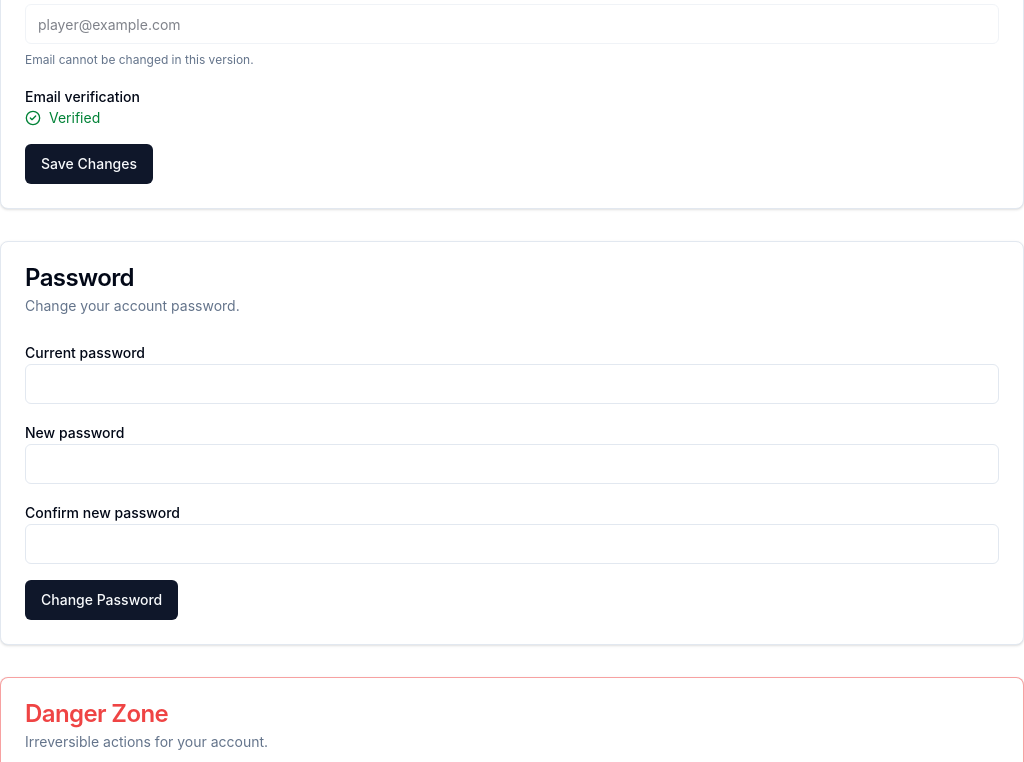
Test case: ProfilePage › shows English validation error when new password is shorter than 8 characters
(page scrolled)
Type "OldPassword1" into the password field with id "current-password".
click(512, 384); type("OldPassword1")  # box [25,364,999,404]
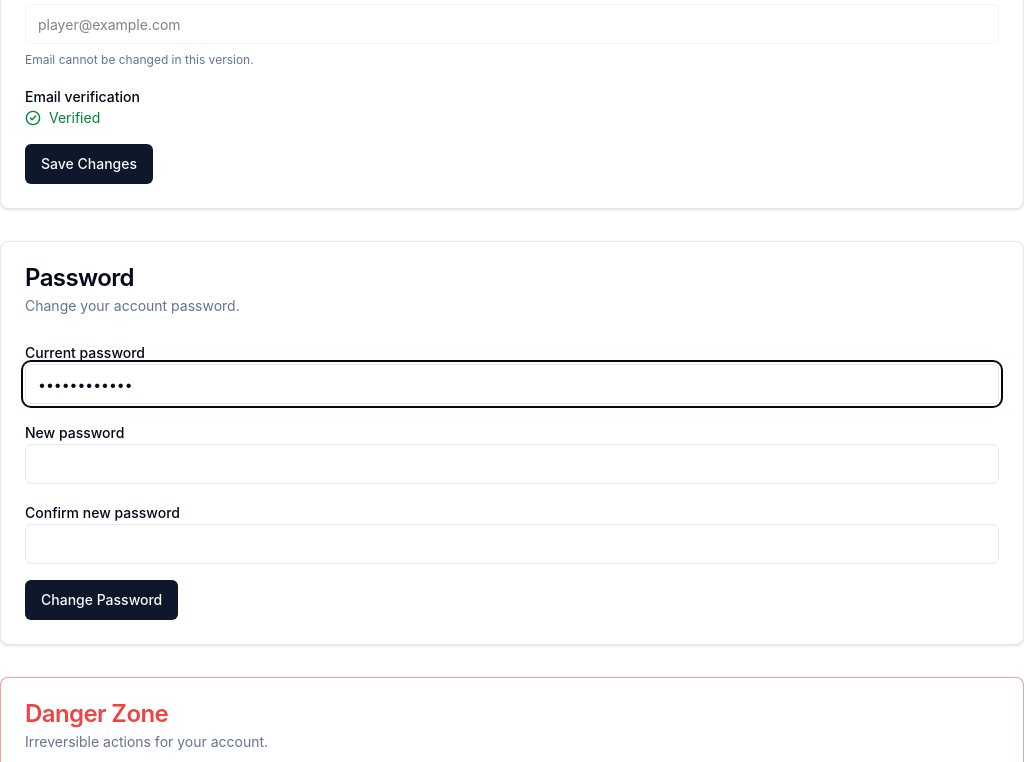
Type "short" into the password field with id "new-password".
click(512, 464); type("short")  # box [25,444,999,484]
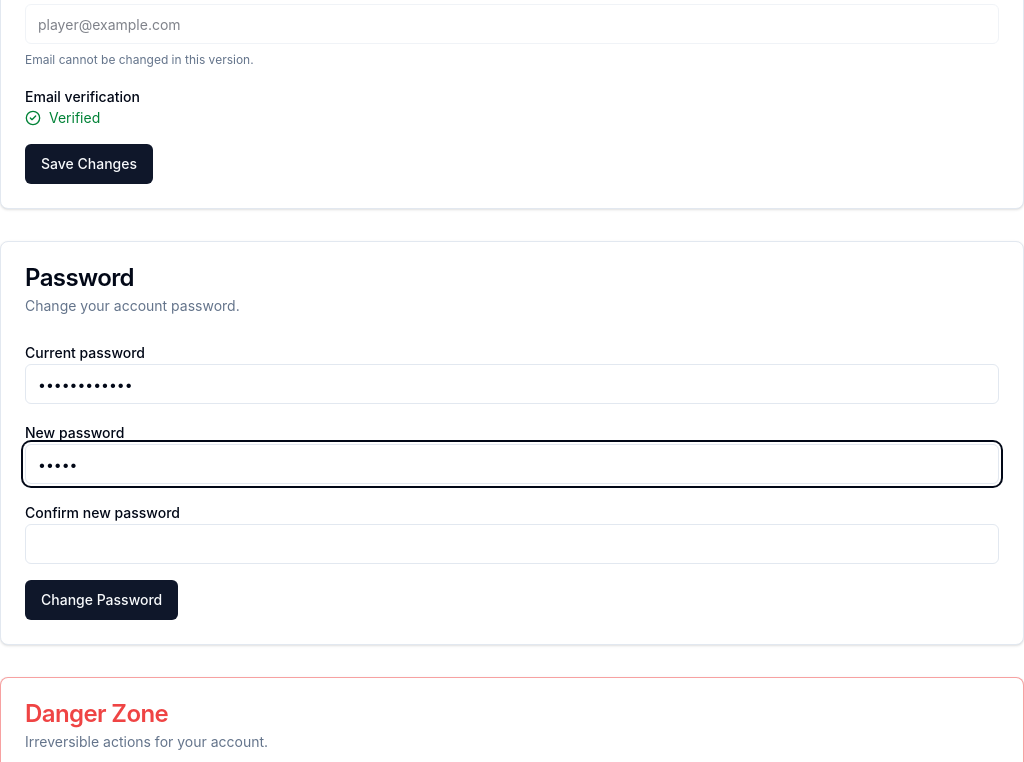
Type "short" into the password field with id "confirm-new-password".
click(512, 544); type("short")  # box [25,524,999,564]
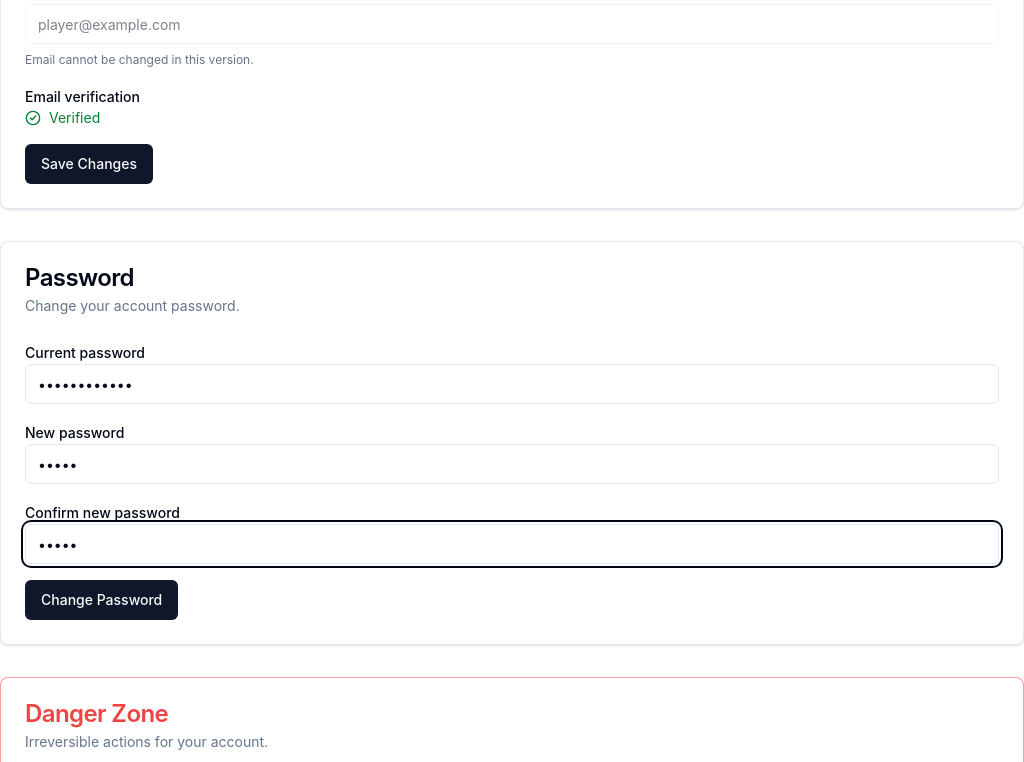
Click the button "Change Password".
click(102, 600)  # box [25,580,178,620]
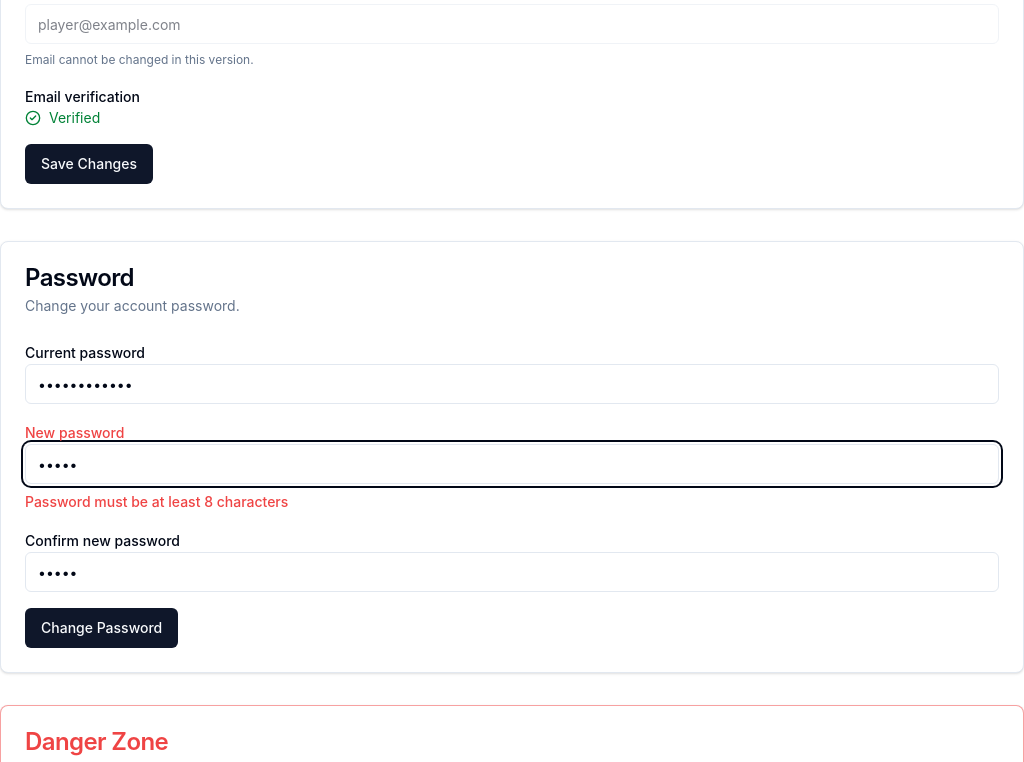
Result: the text "Password must be at least 8 characters" is shown at [25,493,288,510]
